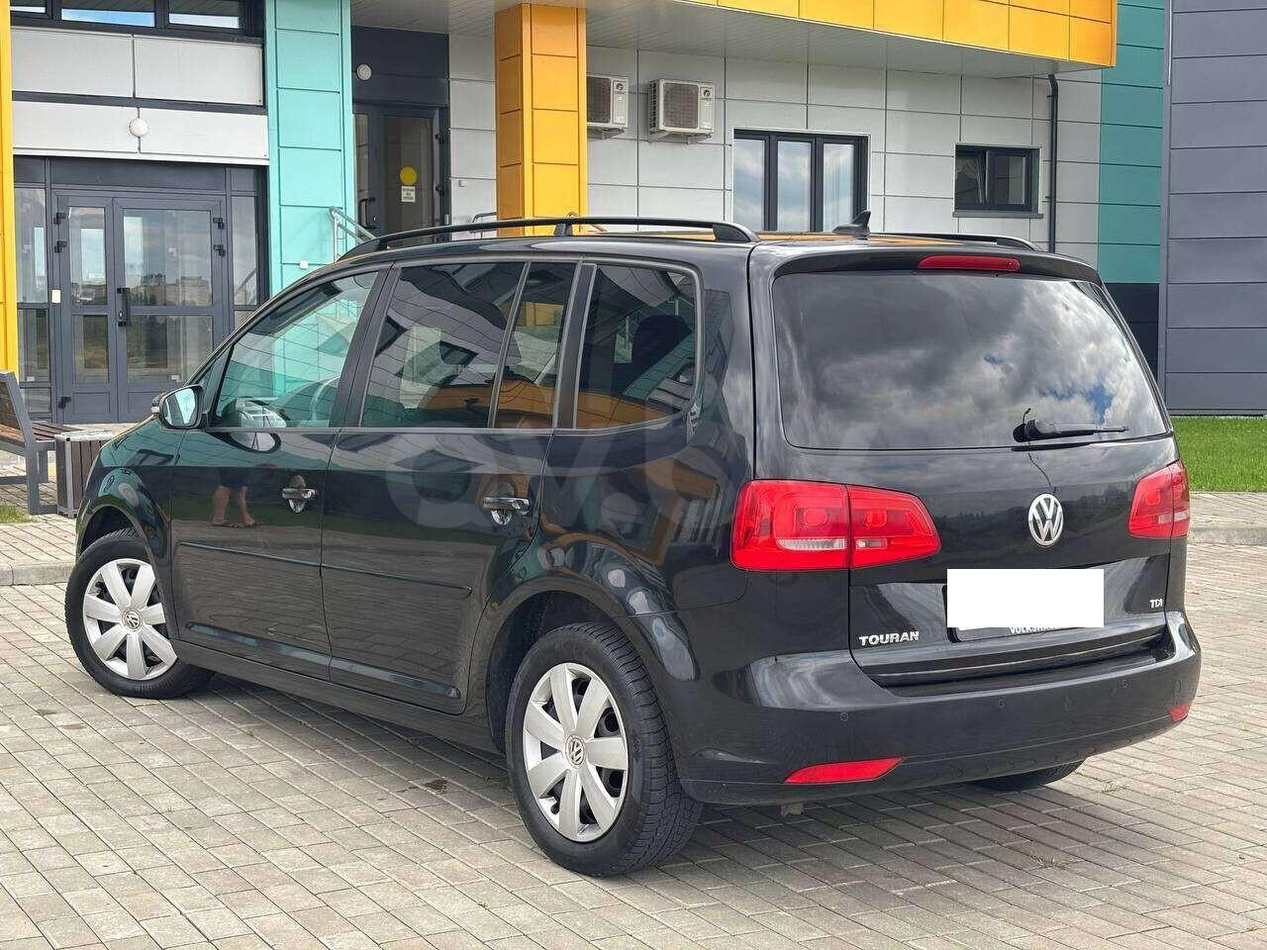Touran_2010-2015: (61, 219, 1210, 882)
